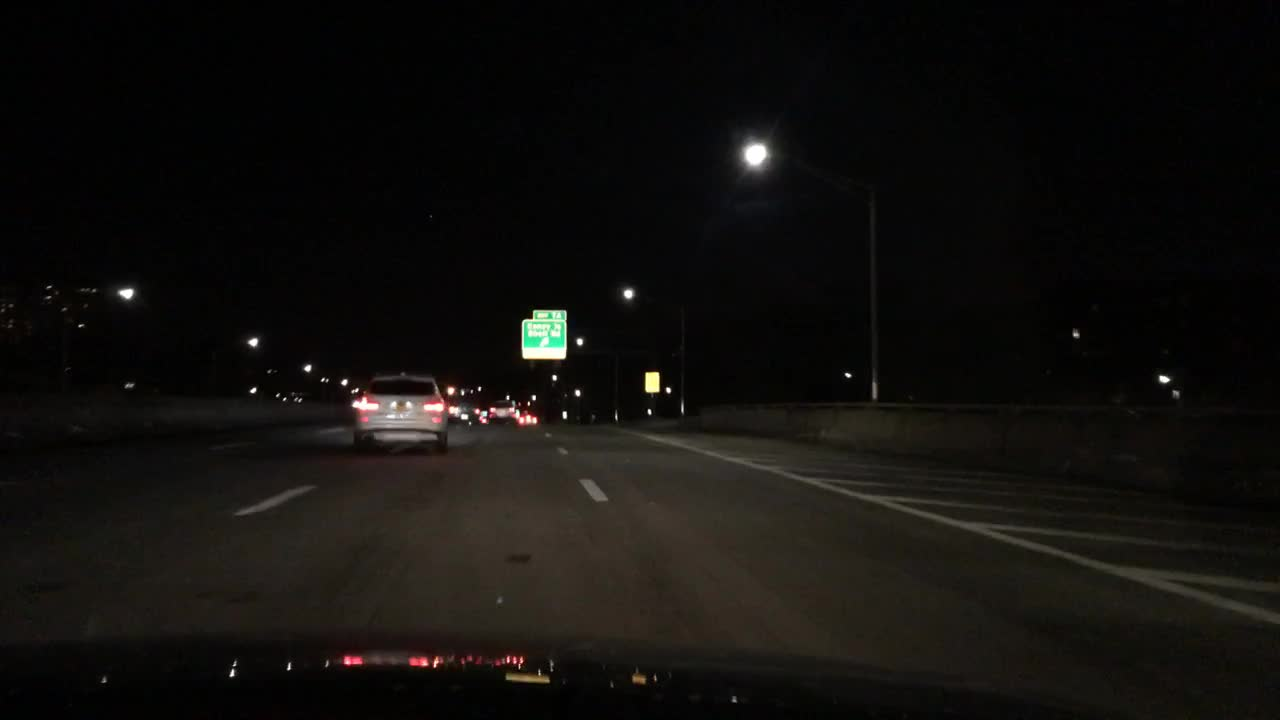car: (351, 375, 447, 451), (1112, 369, 1180, 403), (489, 401, 519, 426), (566, 408, 596, 425), (455, 401, 476, 424), (445, 393, 457, 421), (291, 391, 314, 405), (270, 391, 293, 403), (519, 410, 536, 426), (477, 413, 489, 425)
traffic sign: (521, 320, 563, 358), (532, 310, 566, 320), (645, 372, 658, 391)
